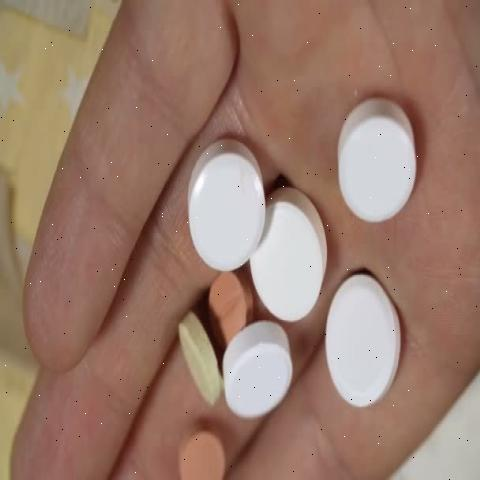Pill: (321, 270, 414, 436), (334, 76, 422, 248), (178, 129, 273, 278), (247, 178, 329, 332), (222, 316, 303, 432)
